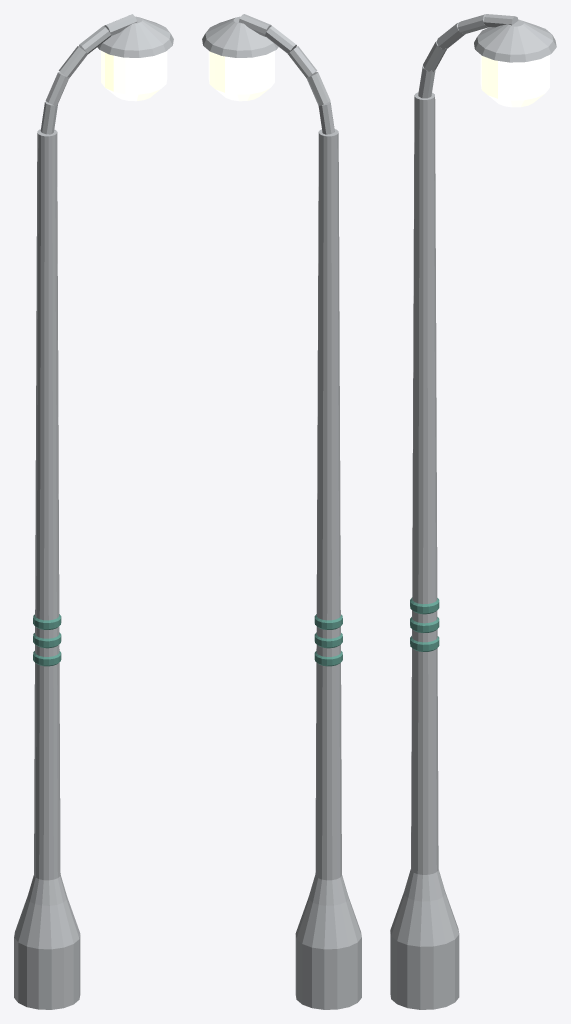
File: lamp_post.glb
3 views of the same model, side by side, from view 1: azimuth 30°, elevation 25°; view 2: azimuth 150°, elevation 25°; view 3: azimuth 330°, elevation 25° (orthographic). The views are drawn at different scales.
Visible parts, largest first — view 1: lamp_post_steel, lamp_post_lamp_glass, lamp_post_trim_g; view 2: lamp_post_steel, lamp_post_lamp_glass, lamp_post_trim_g; view 3: lamp_post_steel, lamp_post_lamp_glass, lamp_post_trim_g.
Boxes of the visible parts, x1,y1,x2,y2 form: lamp_post_steel: [14, 14, 173, 1009]; lamp_post_lamp_glass: [101, 50, 167, 101]; lamp_post_trim_g: [33, 614, 61, 666]; lamp_post_steel: [202, 14, 361, 1009]; lamp_post_lamp_glass: [208, 50, 274, 101]; lamp_post_trim_g: [314, 614, 342, 666]; lamp_post_steel: [390, 14, 556, 1009]; lamp_post_lamp_glass: [480, 55, 549, 107]; lamp_post_trim_g: [410, 597, 439, 651].
Size of the model in its own units: 1.04 by 6.34 by 0.48.
